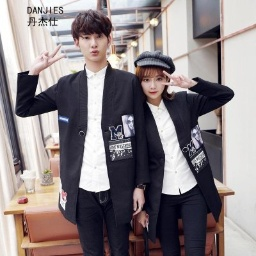face: (71, 10, 116, 62), (134, 60, 171, 100)
